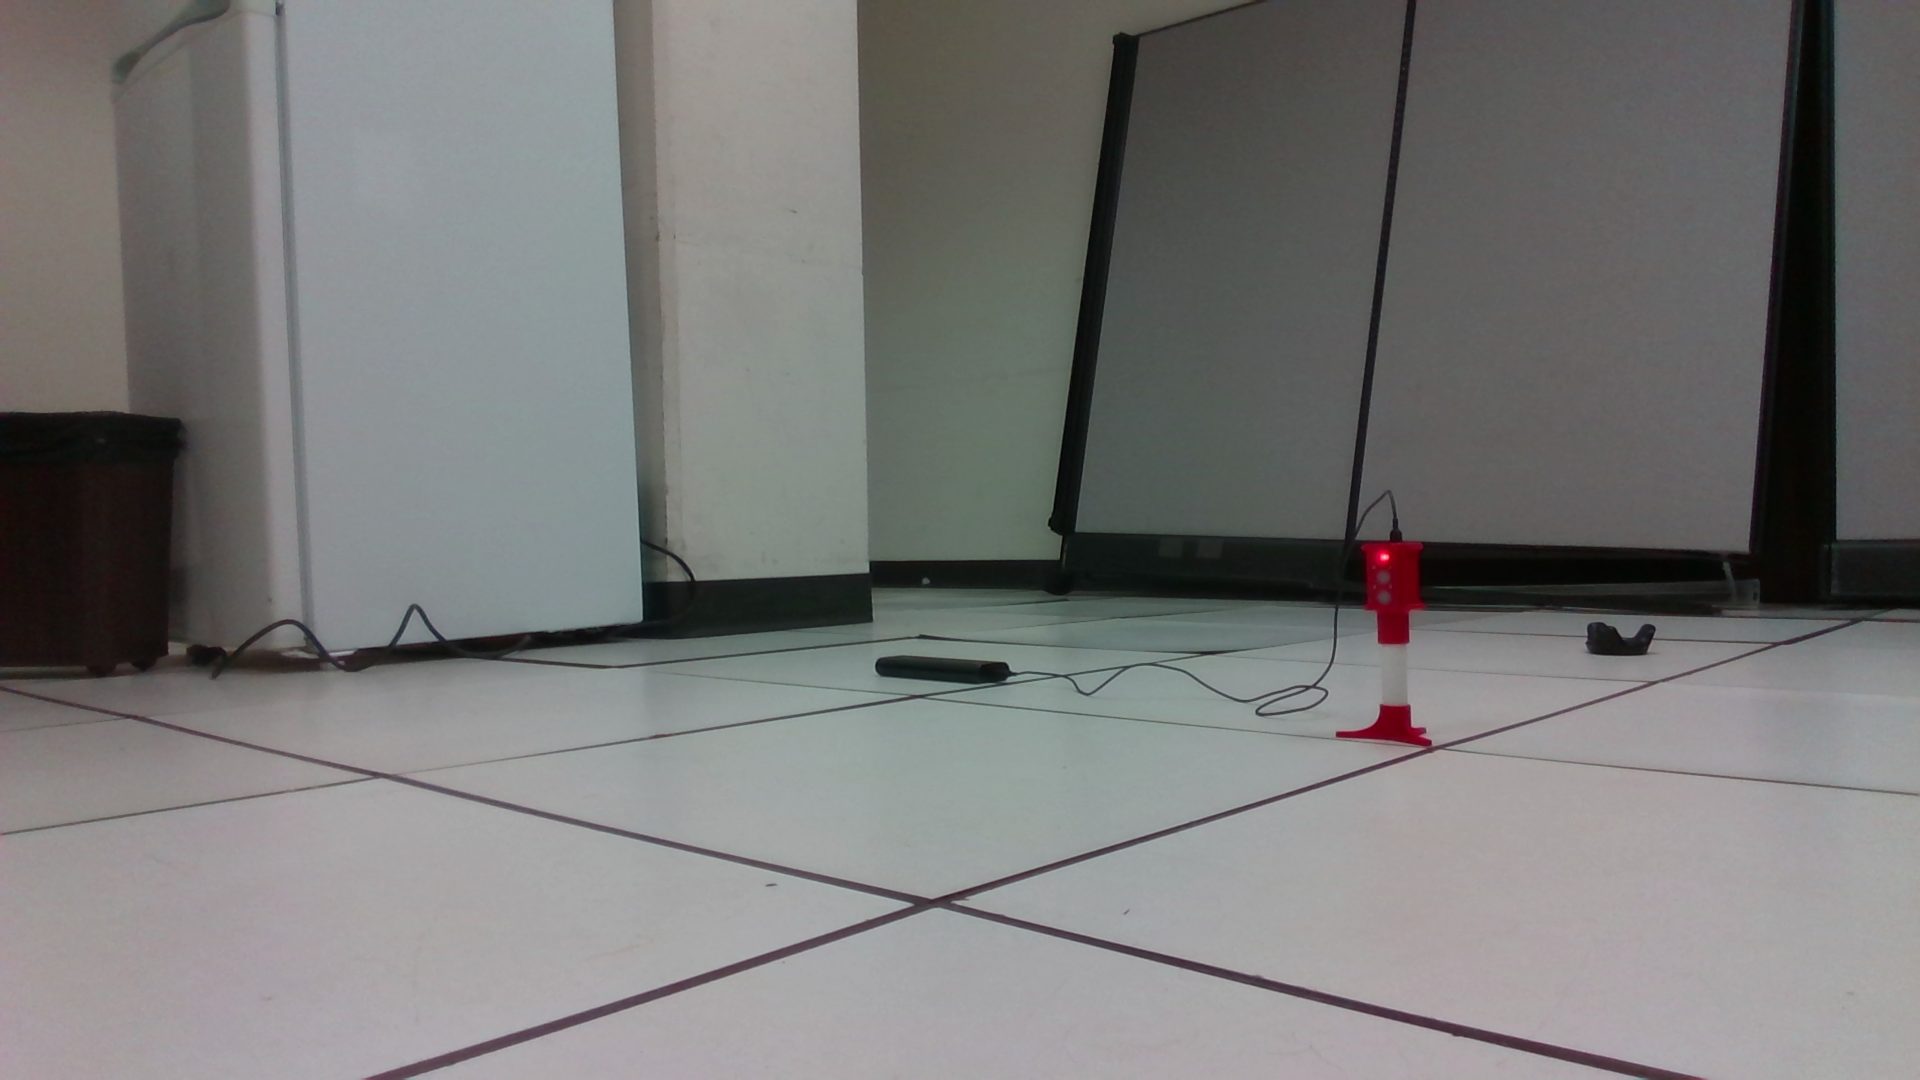stoplight: (1360, 541, 1427, 649)
